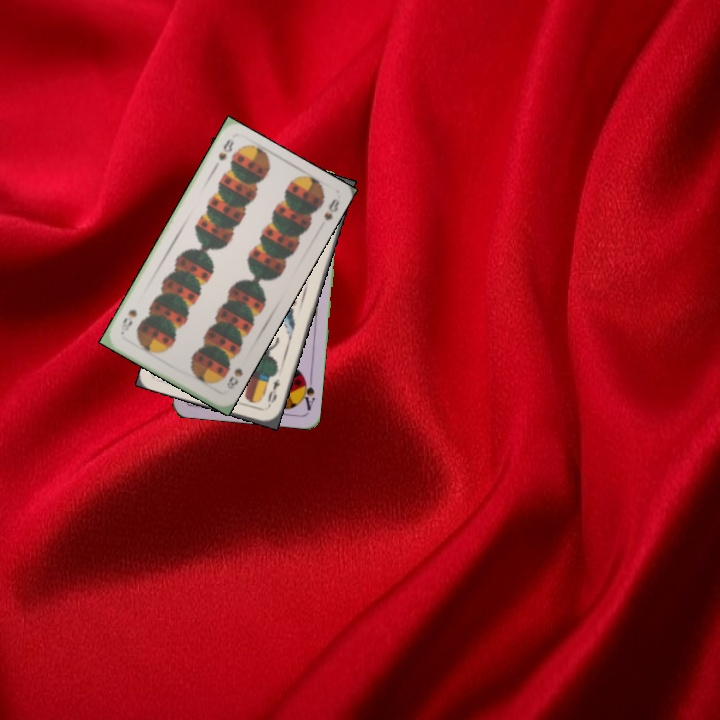EO: (263, 375, 283, 410)
S8: (223, 364, 245, 392), (214, 135, 236, 163)
SA: (297, 372, 317, 413)
